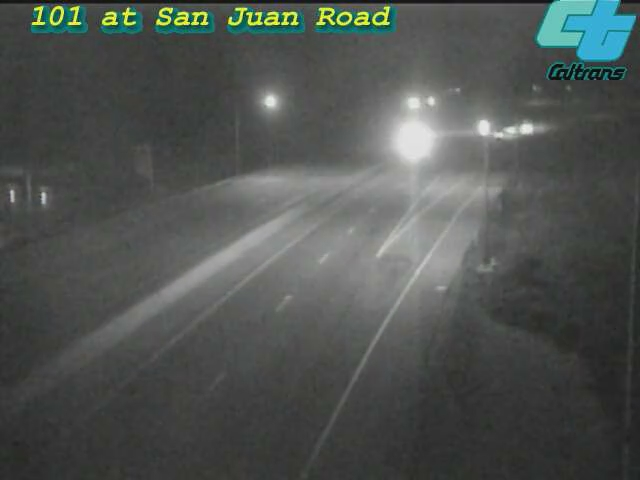vehicle: (394, 116, 444, 166), (459, 101, 509, 151), (504, 99, 554, 149), (487, 103, 537, 153), (475, 111, 525, 161)
